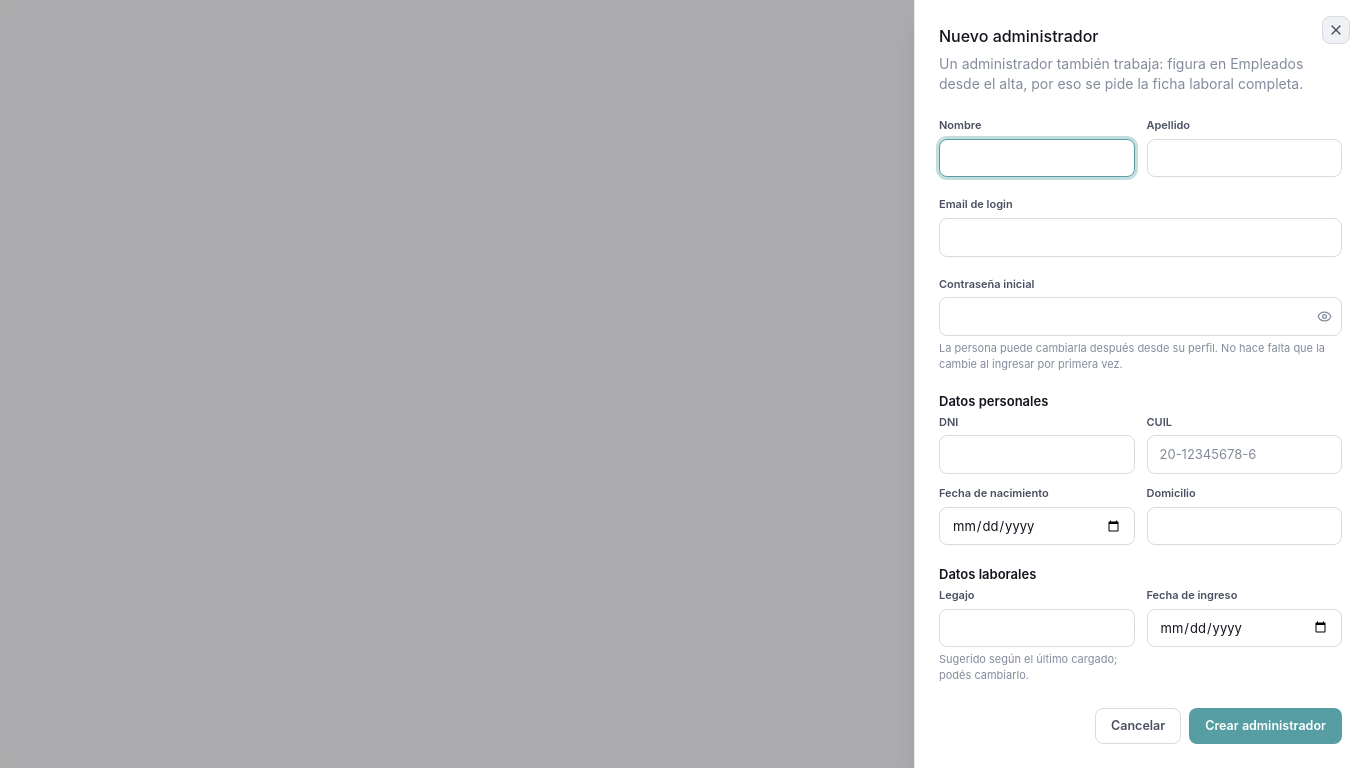
Test: NewAdminUserSheet · ficha laboral (CR-17) › sin DNI no crea la cuenta y marca el campo
The width and height of the screenshot is (1366, 768).
In the field with id "new-admin-first-name": (1037, 158) x1=939 y1=139 x2=1134 y2=177, type "Ana"
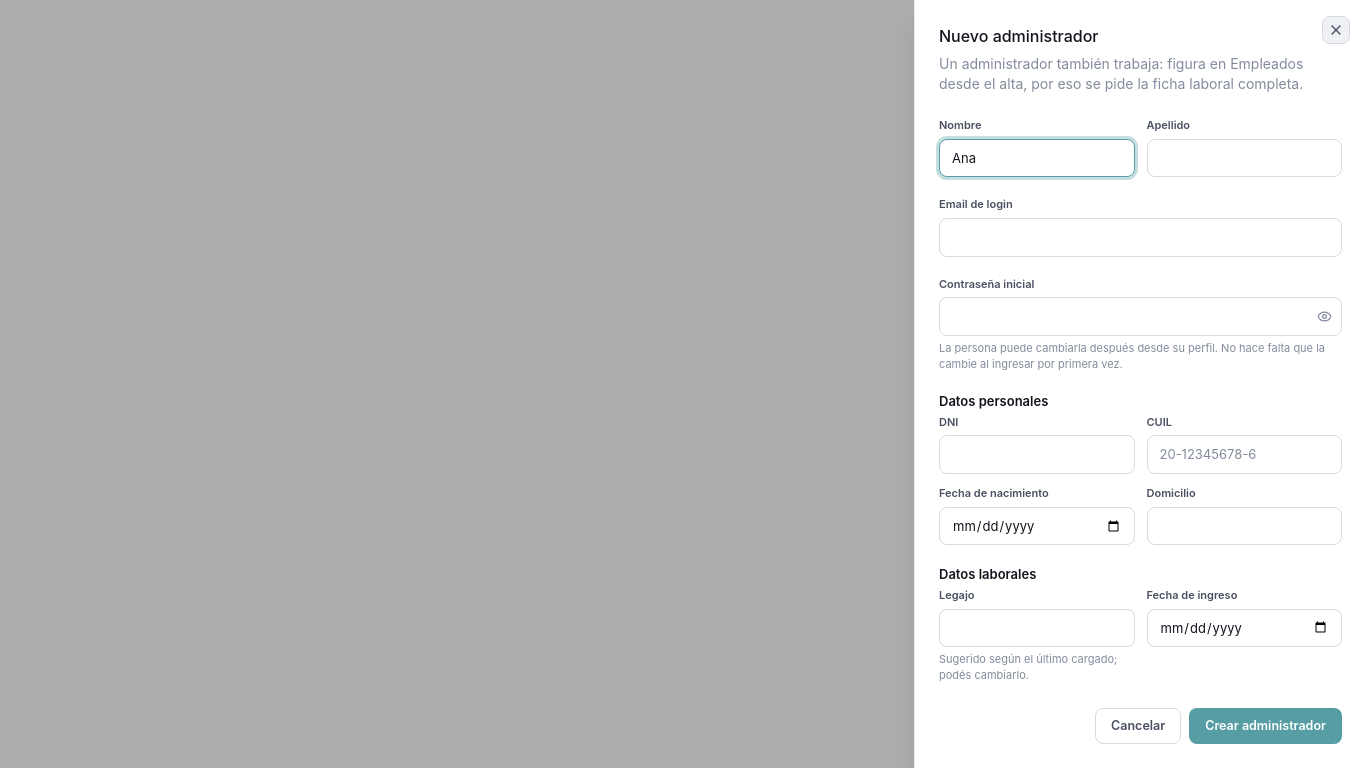
In the field with id "new-admin-last-name": (1244, 158) x1=1146 y1=139 x2=1342 y2=177, type "Gómez"
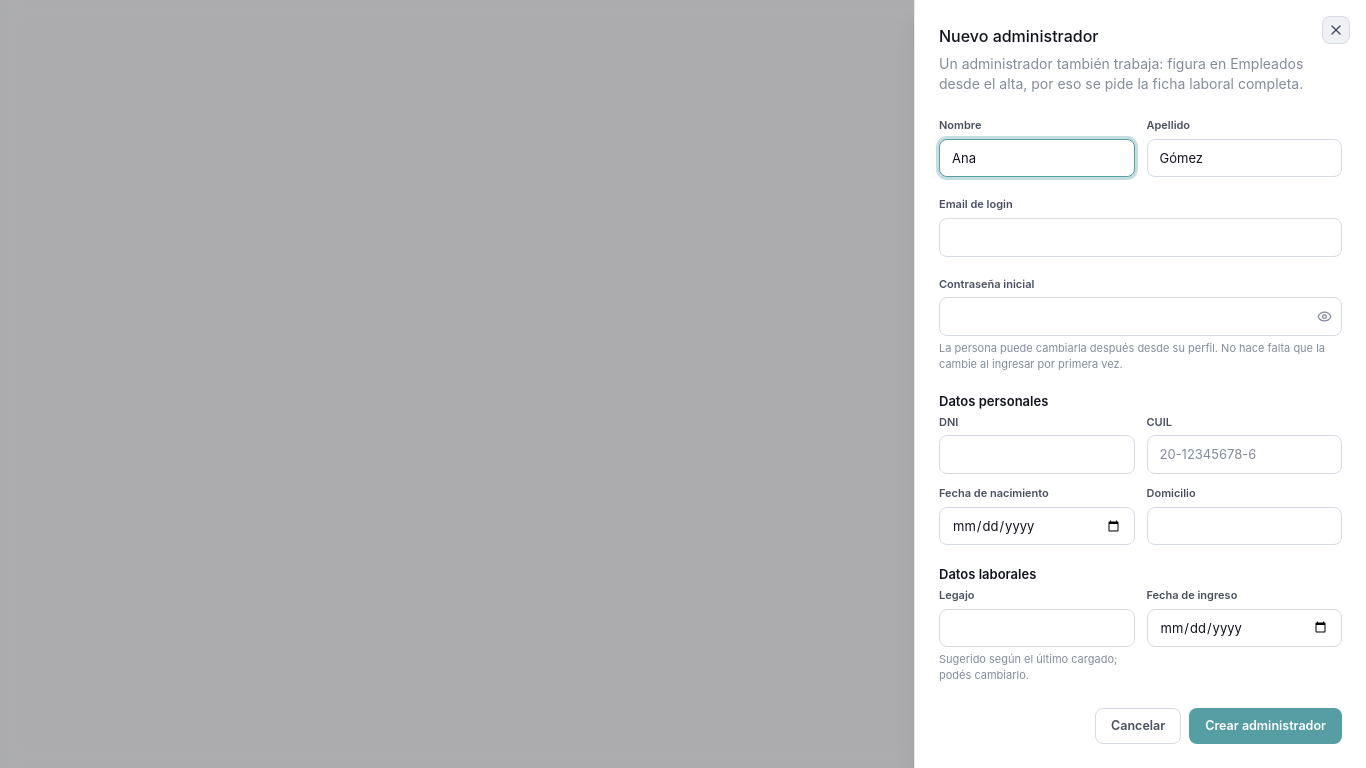
In the field with id "new-admin-email": (1140, 237) x1=939 y1=218 x2=1342 y2=257, type "ana@ejemplo.com"
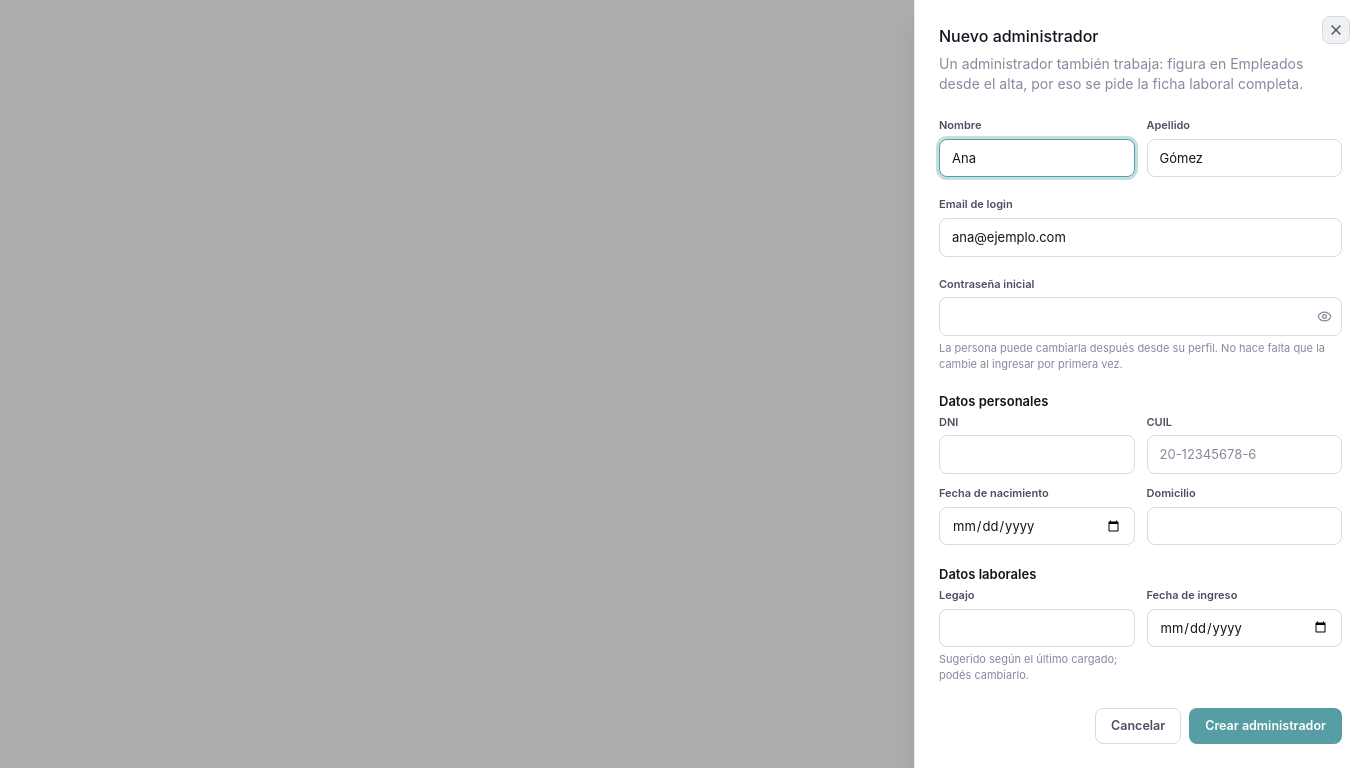
In the password field with id "new-admin-password": (1140, 316) x1=939 y1=297 x2=1342 y2=336, type "clave-segura-1"
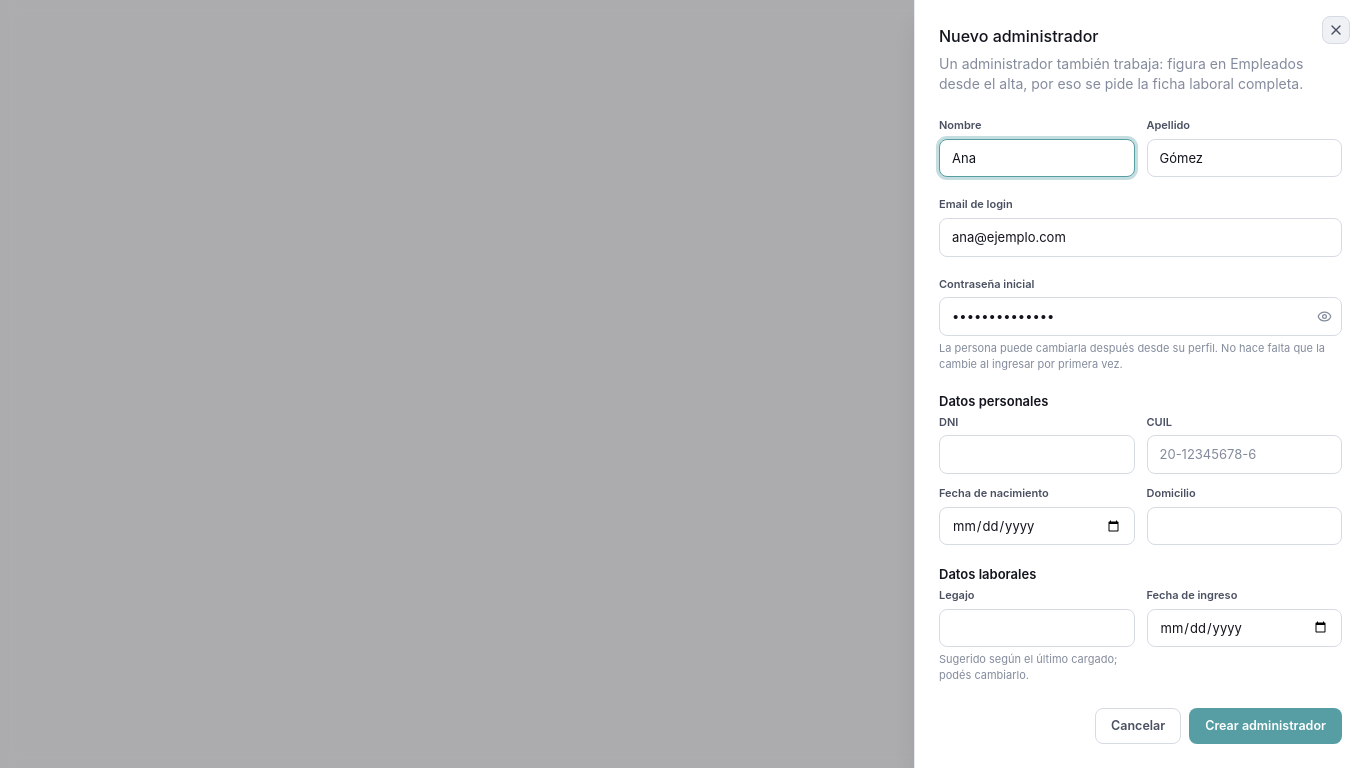
Click the button "Crear administrador": (1266, 726) x1=1189 y1=708 x2=1342 y2=744
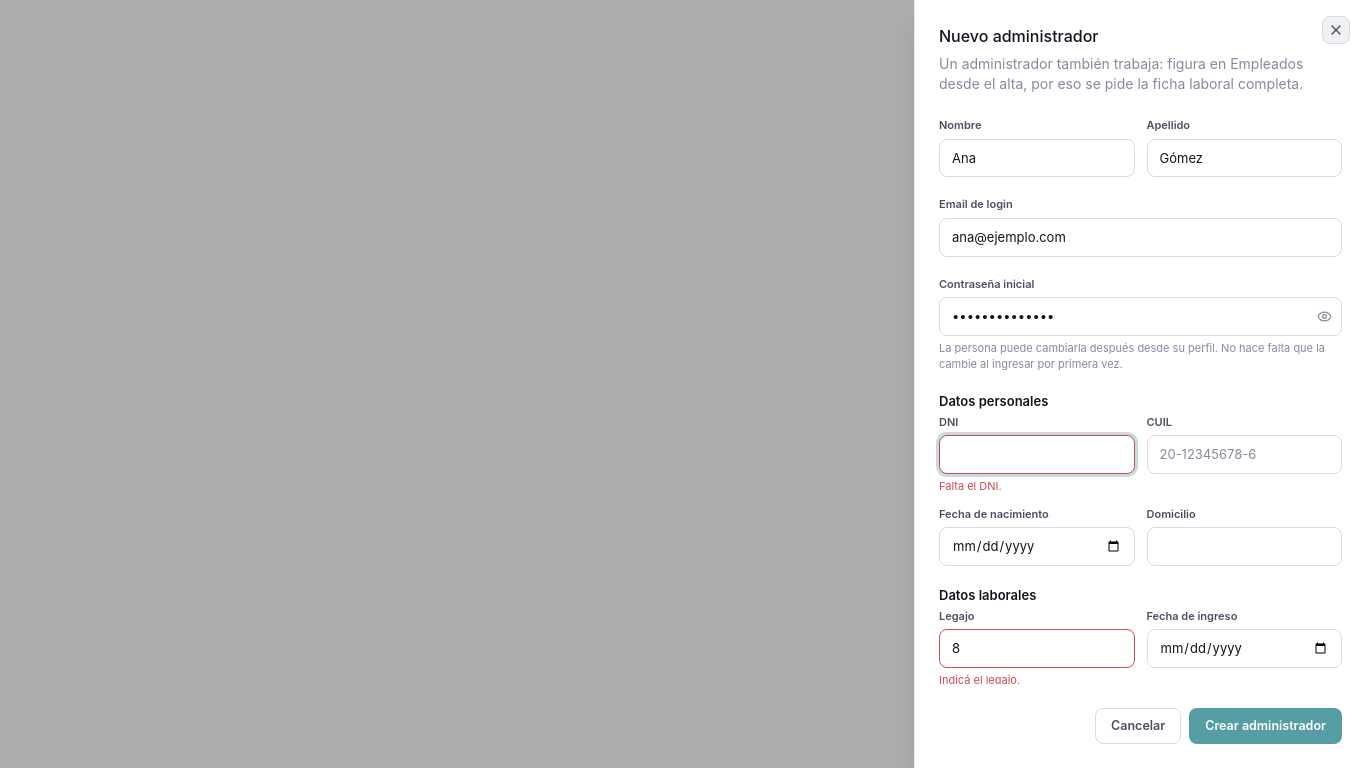
expect the text "Falta el DNI." is shown: met, box x1=939 y1=479 x2=1002 y2=493
